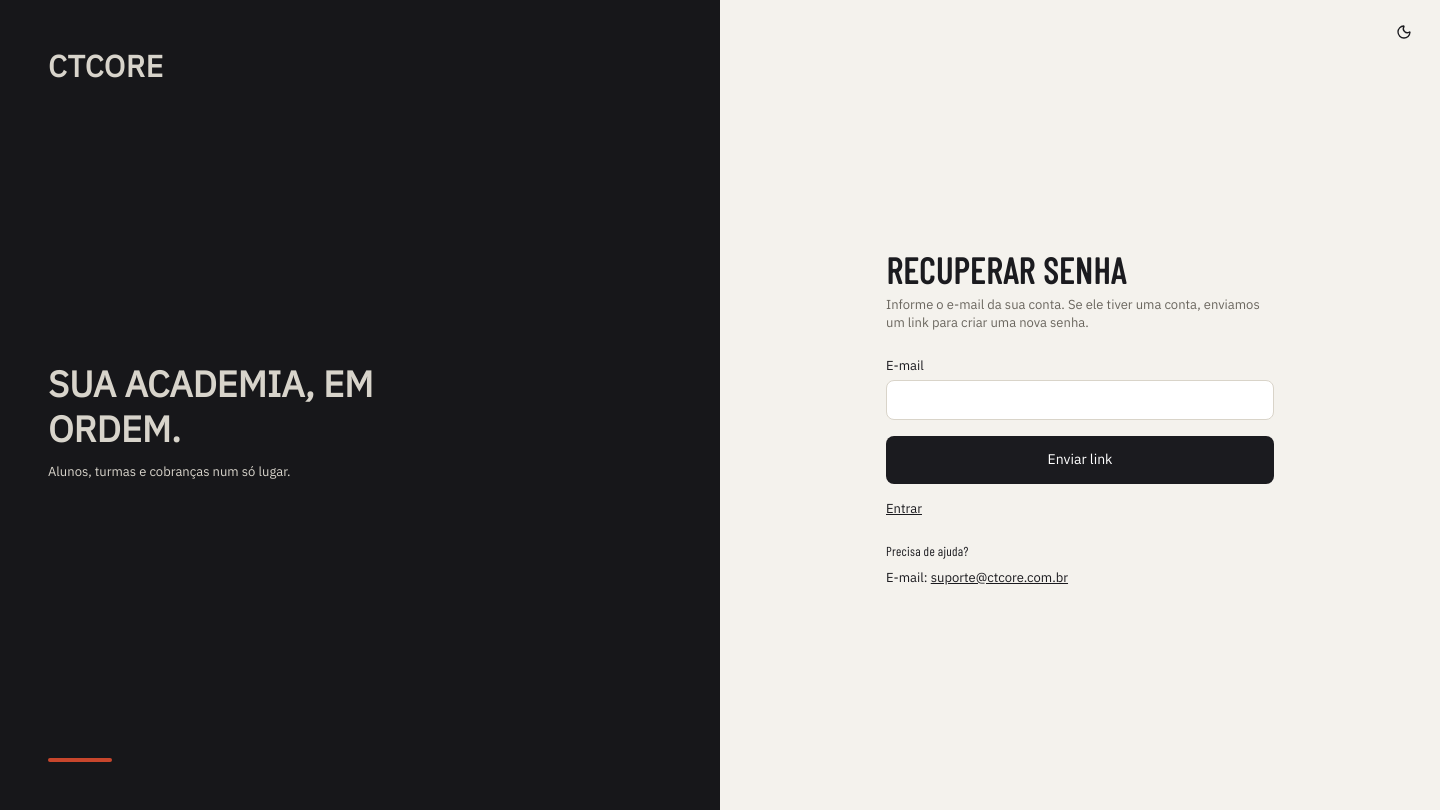
Test: ForgotPasswordPage › CA3: com@exemplo.com recebe a mesma mensagem, sem formulário
Step 1. Type "com@exemplo.com" into the field labelled "E-mail" → coordinates (1080, 400), box [886,380,1274,420]
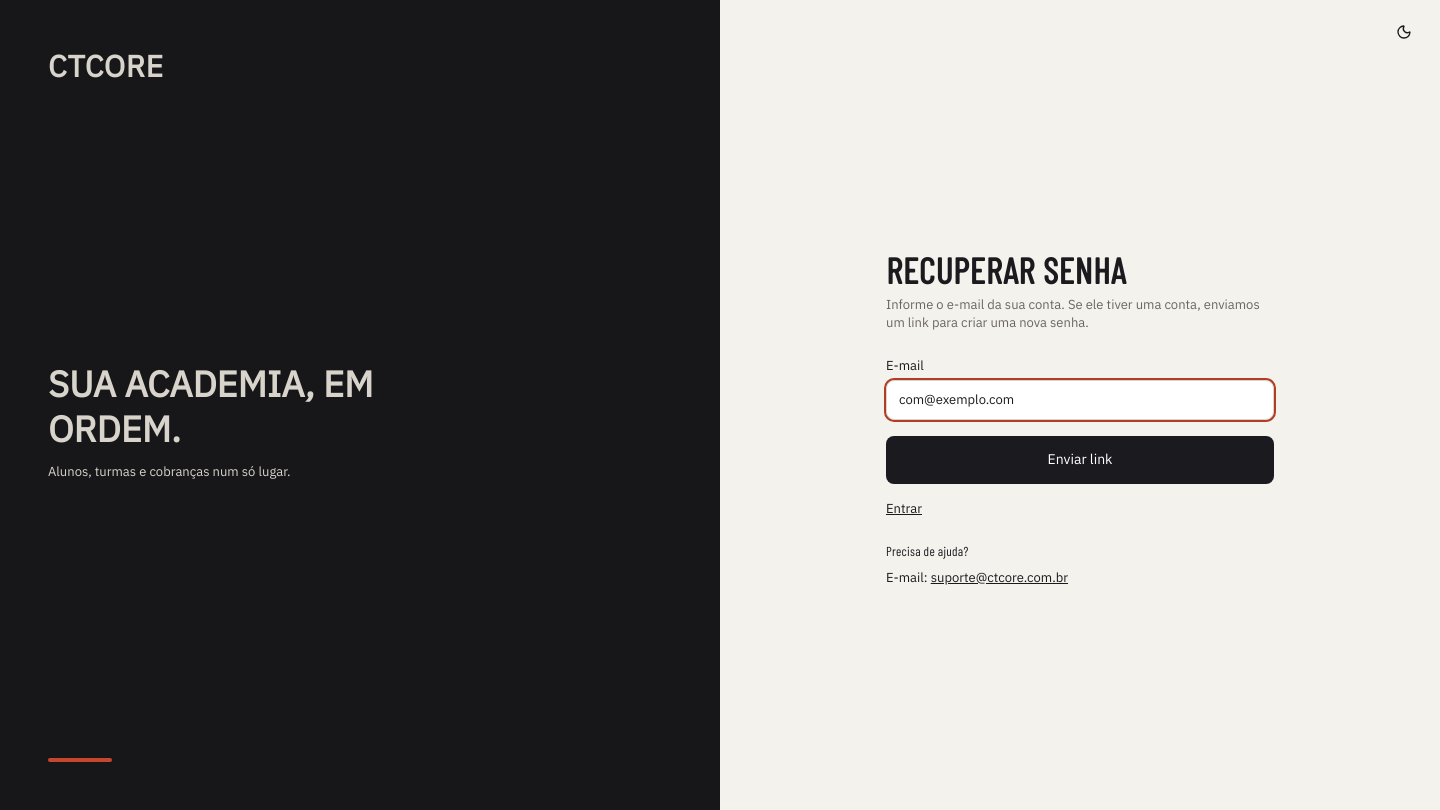
Step 2. Click the button "Enviar link" → coordinates (1080, 460), box [886,436,1274,484]
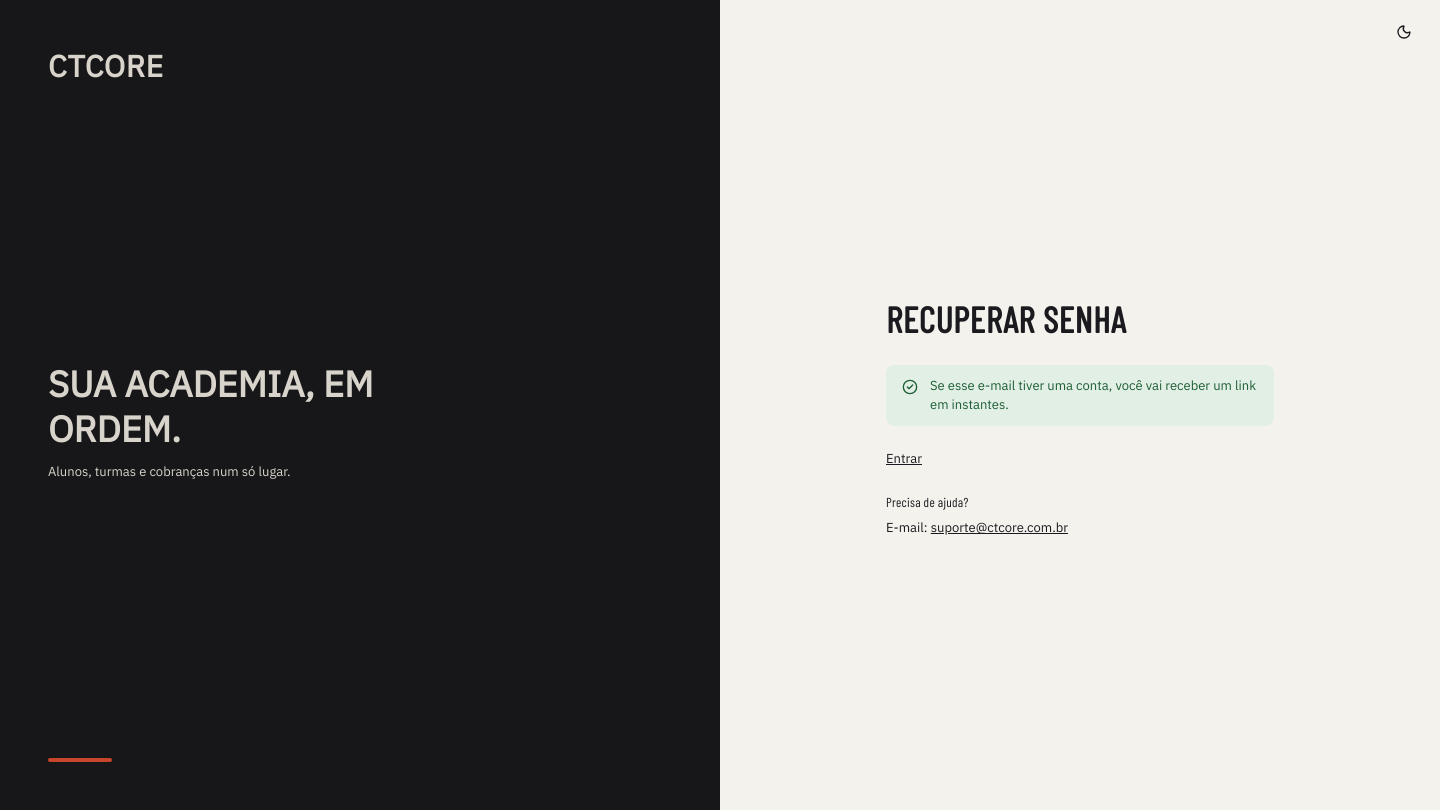
Check: the link "Entrar" is shown, box [886,450,922,467]
Check: the message reads "Se esse e-mail tiver uma conta, você vai receber um link em instantes.", box [930,377,1256,413]
